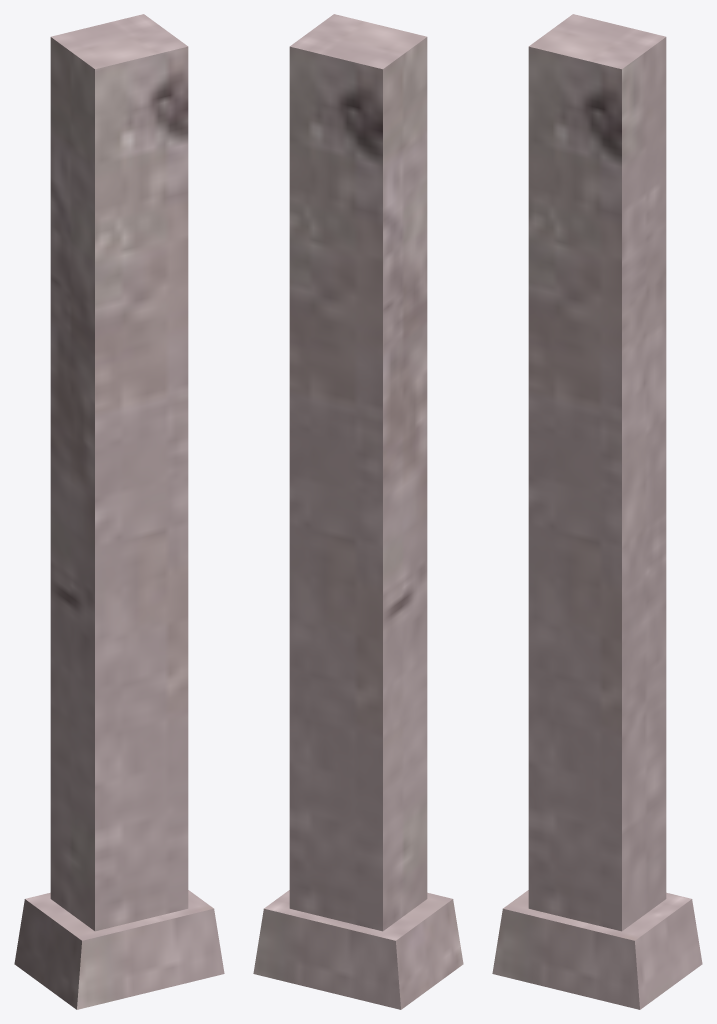
File: pasted__marble_tiles_pink_118.fbx
3 renders of one model, left to right at view 1: azimuth 30°, elevation 25°; view 2: azimuth 150°, elevation 25°; view 3: azimuth 330°, elevation 25°, orthographic.
Parts seen in each view (by area): view 1: pasted__marble_tiles_pink_118; view 2: pasted__marble_tiles_pink_118; view 3: pasted__marble_tiles_pink_118.
Part boxes in pixels (left/top/right/bottom): pasted__marble_tiles_pink_118: left=14, top=14, right=224, bottom=1009; pasted__marble_tiles_pink_118: left=253, top=14, right=463, bottom=1009; pasted__marble_tiles_pink_118: left=492, top=14, right=702, bottom=1009.
Size of the model in its own units: 9.8 by 7.18 by 58.79.
